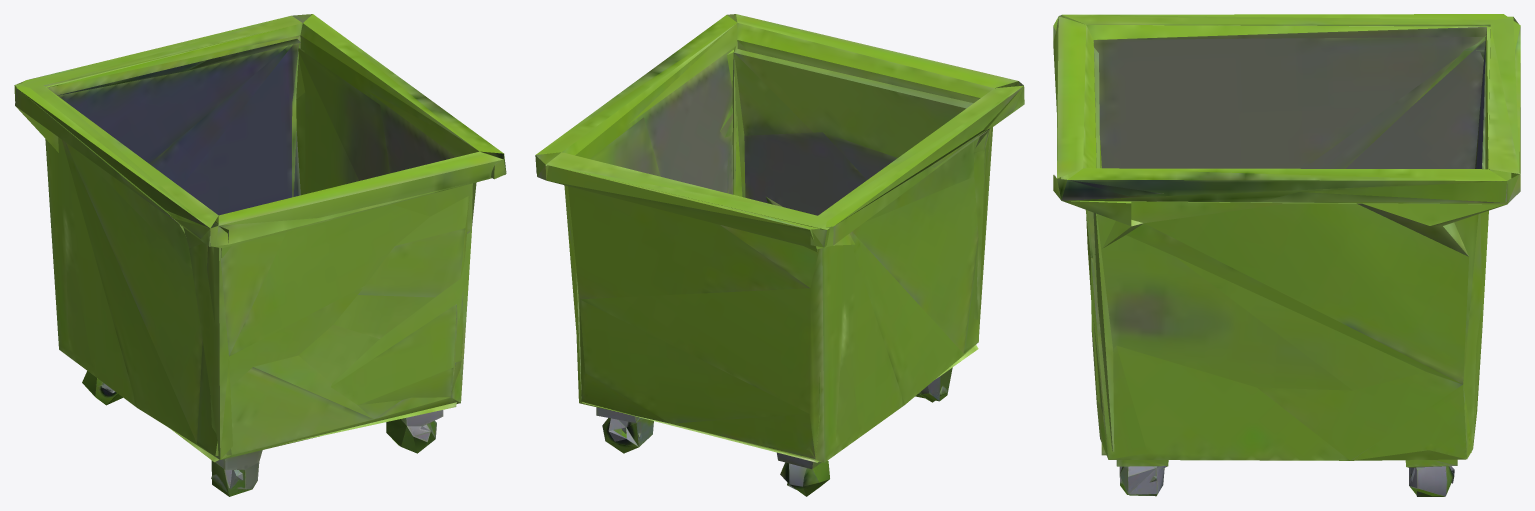
Rendered from dumpster.glb.
3 views of the same model, side by side, from view 1: azimuth 30°, elevation 25°; view 2: azimuth 150°, elevation 25°; view 3: azimuth 270°, elevation 25° (orthographic). The views are drawn at different scales.
Bounding box in the file's own units: 1.61 × 1.58 × 1.9.
1 material, 1 textured.
